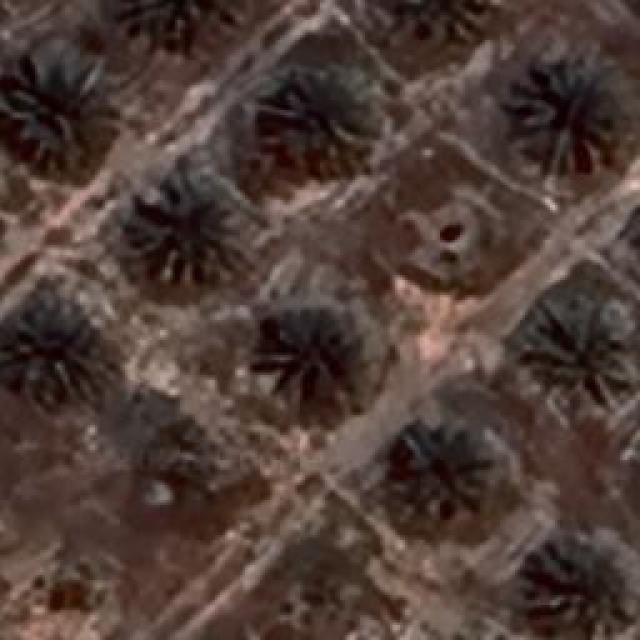PalmTree: (255, 305, 365, 420), (125, 170, 233, 282), (522, 302, 636, 408), (522, 530, 636, 635), (510, 58, 615, 172), (5, 58, 105, 172), (264, 62, 372, 162), (392, 420, 486, 515), (10, 302, 100, 398), (107, 0, 248, 56), (370, 0, 502, 48)
